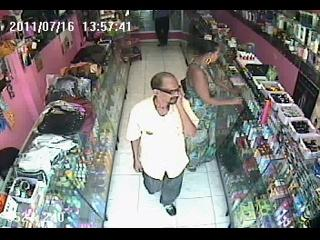Normal: (126, 72, 200, 216), (184, 38, 244, 172), (152, 10, 172, 46)
